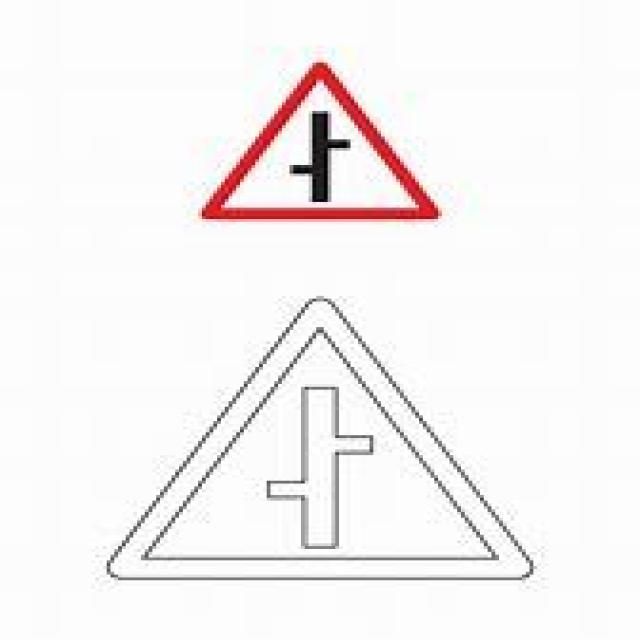STAGGERED_INTERSECTION: (172, 48, 478, 233)
